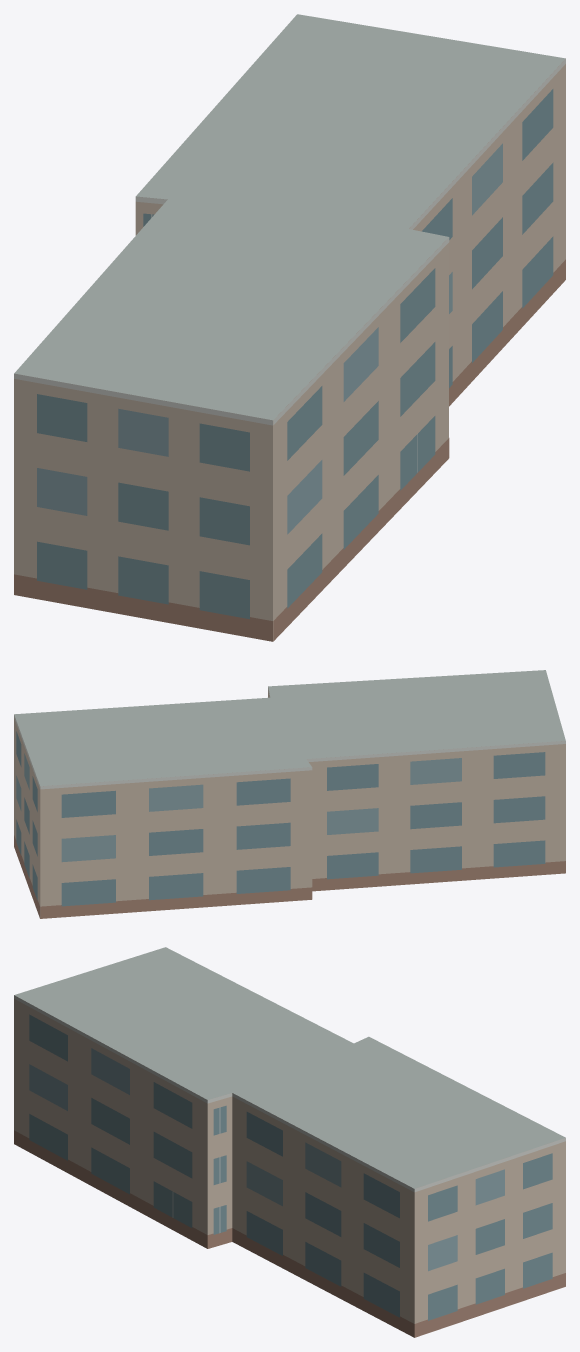
The model's file is survey-upis-32737511.glb.
3 views of the same model, one above another, from view 1: azimuth 30°, elevation 25°; view 2: azimuth 150°, elevation 25°; view 3: azimuth 270°, elevation 25° (orthographic). The views are drawn at different scales.
Parts seen in each view (by area): view 1: survey-upis-32737511.tmp; view 2: survey-upis-32737511.tmp; view 3: survey-upis-32737511.tmp.
Boxes of the visible parts, x1,y1,x2,y2 form: survey-upis-32737511.tmp: (14, 14, 565, 641); survey-upis-32737511.tmp: (14, 670, 565, 918); survey-upis-32737511.tmp: (14, 947, 565, 1337).
Bounding box in the file's own units: 35.87 × 10.3 × 34.59.
